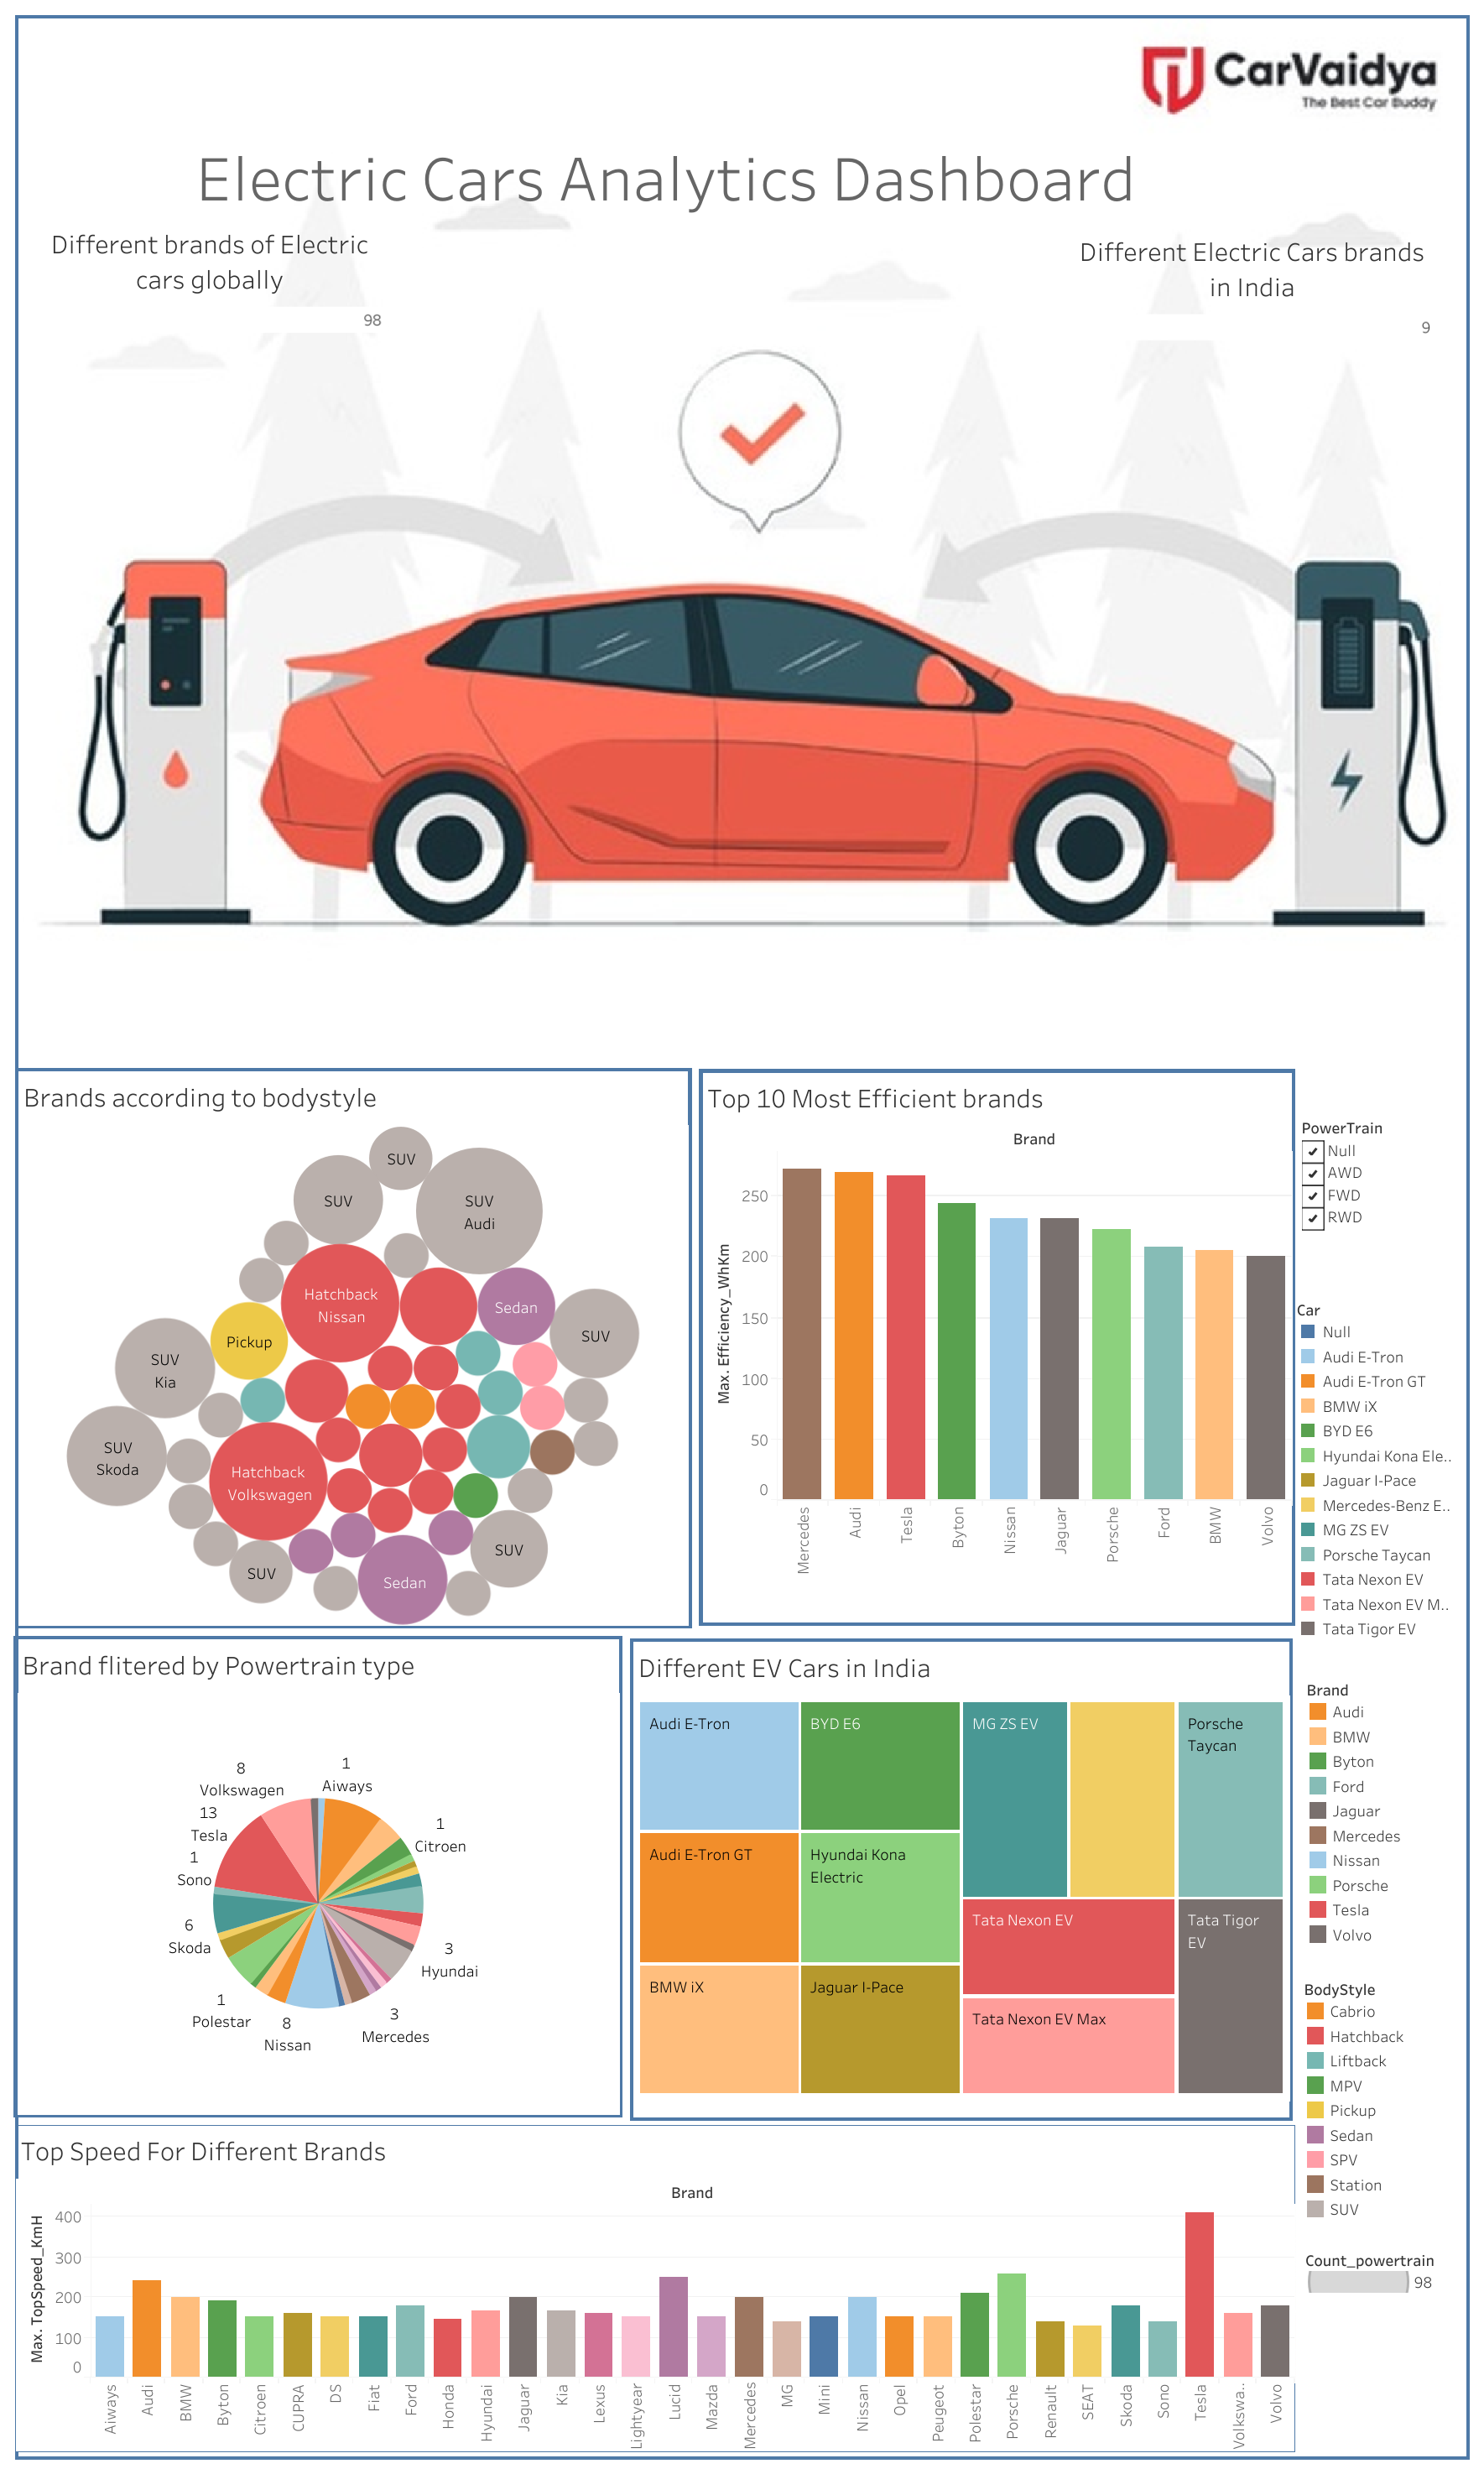

Layout of this report page (visuals, bound fields, positions):
{"tool":"tableau","page":{"name":"Dashboard 1","canvas":[1350,2000],"ordinal":0},"visuals":[{"type":"image","param":"Image/carss.jpg","box":[8,8,1334,1984]},{"type":"worksheet","title":"Different brands of Electric cars globally","mark":"Automatic","box":[29.4,176.8,323.2,195.2]},{"type":"worksheet","title":"Different Electric Cars brands in India ","mark":"Automatic","box":[970.4,183.2,335.9,164]},{"type":"worksheet","title":"Brands according to bodystyle","mark":"Circle","box":[13.5,863.2,615.4,452.8]},{"type":"worksheet","title":"Top 10 Most Efficient brands ","mark":"Automatic","rows":["Efficiency_WhKm"],"cols":["Brand"],"box":[635.3,864,542.4,450.4]},{"type":"filter","title":"Brand flitered by Powertrain type","param":"[federated.1pfyflv0jyyr1d1c9rnon0eir4zj].[none:PowerTrain:nk]","box":[1183.2,900.8,150.9,147.2]},{"type":"legend","title":"Different EV Cars in India","param":"[federated.1pfyflv0jyyr1d1c9rnon0eir4zj].[none:Car:nk]","box":[1188.8,1070.4,162.8,288]},{"type":"worksheet","title":"Brand flitered by Powertrain type","mark":"Pie","box":[12.7,1322.4,552.7,388.8]},{"type":"worksheet","title":"Different EV Cars in India","mark":"Automatic","box":[572.6,1324,603.5,390.4]},{"type":"legend","title":"Top 10 Most Efficient brands ","param":"[federated.1pfyflv0jyyr1d1c9rnon0eir4zj].[none:Brand:nk]","box":[1191.2,1361.6,126.3,226.4]},{"type":"legend","title":"Brand flitered by Powertrain type","param":"[federated.1pfyflv0jyyr1d1c9rnon0eir4zj].[usr:Calculation_383650418342326276:qk]","box":[1184,1564,125.5,42.4]},{"type":"legend","title":"Brands according to bodystyle","param":"[federated.1pfyflv0jyyr1d1c9rnon0eir4zj].[none:BodyStyle:nk]","box":[1188.8,1608,142.9,210.4]},{"type":"worksheet","title":"Top Speed For Different Brands","mark":"Automatic","rows":["TopSpeed_KmH"],"cols":["Brand"],"box":[13.5,1716.8,1164.2,265.6]}]}

Visuals, with their boxes in screenshot pixels (x1, y1, x2, y2):
image: detection(15, 0, 1459, 2131)
"Different brands of Electric cars globally" worksheet: detection(39, 165, 388, 377)
"Different Electric Cars brands in India " worksheet: detection(1057, 173, 1420, 350)
"Brands according to bodystyle" worksheet (Circle marks): detection(21, 909, 687, 1398)
"Top 10 Most Efficient brands " worksheet: detection(694, 909, 1281, 1397)
"Brand flitered by Powertrain type" filter: detection(1287, 950, 1450, 1109)
"Different EV Cars in India" legend: detection(1294, 1133, 1470, 1445)
"Brand flitered by Powertrain type" worksheet (Pie marks): detection(20, 1406, 618, 1826)
"Different EV Cars in India" worksheet: detection(627, 1408, 1279, 1830)
"Top 10 Most Efficient brands " legend: detection(1296, 1448, 1433, 1693)
"Brand flitered by Powertrain type" legend: detection(1288, 1667, 1424, 1713)
"Brands according to bodystyle" legend: detection(1294, 1715, 1448, 1943)
"Top Speed For Different Brands" worksheet: detection(21, 1832, 1281, 2120)
